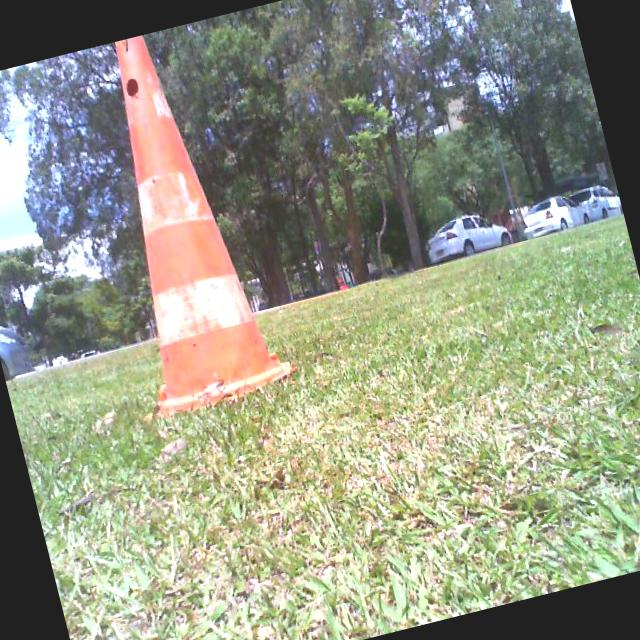Cone: (66, 18, 299, 421)
